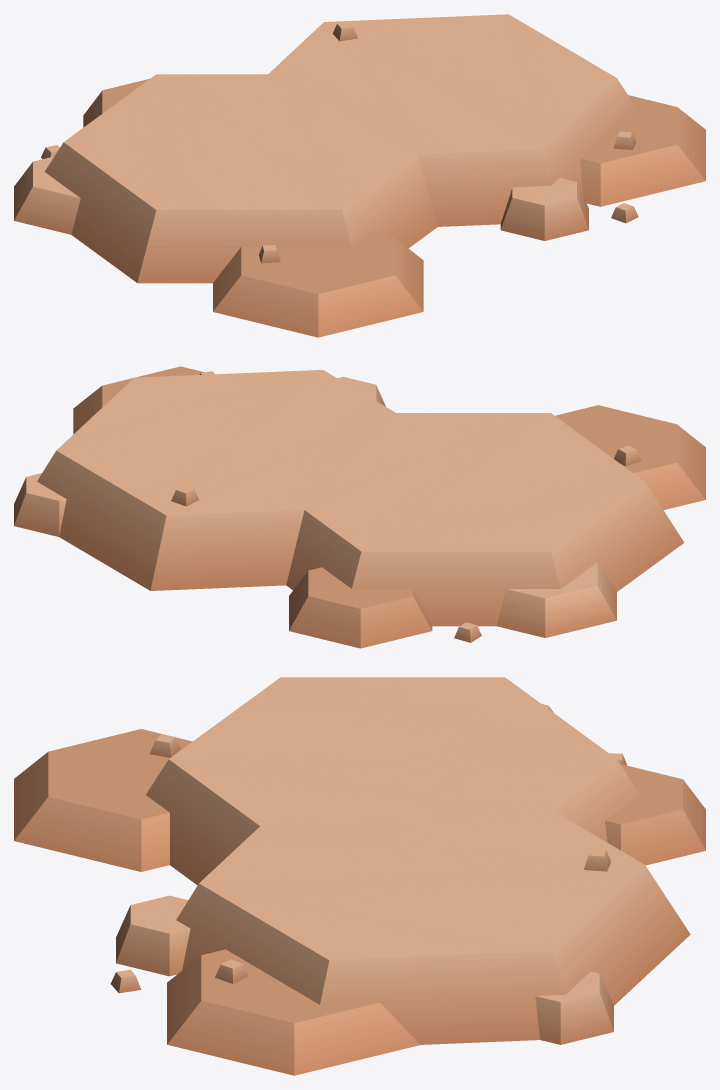
The model's file is rock-flat_lev3.glb.
3 views of the same model, one above another, from view 1: azimuth 30°, elevation 25°; view 2: azimuth 150°, elevation 25°; view 3: azimuth 270°, elevation 25° (orthographic). The views are drawn at different scales.
Visible parts, largest first — view 1: rock-flat_lev3; view 2: rock-flat_lev3; view 3: rock-flat_lev3.
Part boxes in pixels (left/top/right/bottom): rock-flat_lev3: left=14, top=14, right=705, bottom=337; rock-flat_lev3: left=14, top=366, right=705, bottom=648; rock-flat_lev3: left=14, top=677, right=705, bottom=1075.
Size of the model in its own units: 15.32 by 1.67 by 12.42.
Materials: 1 (1 with a texture image).
